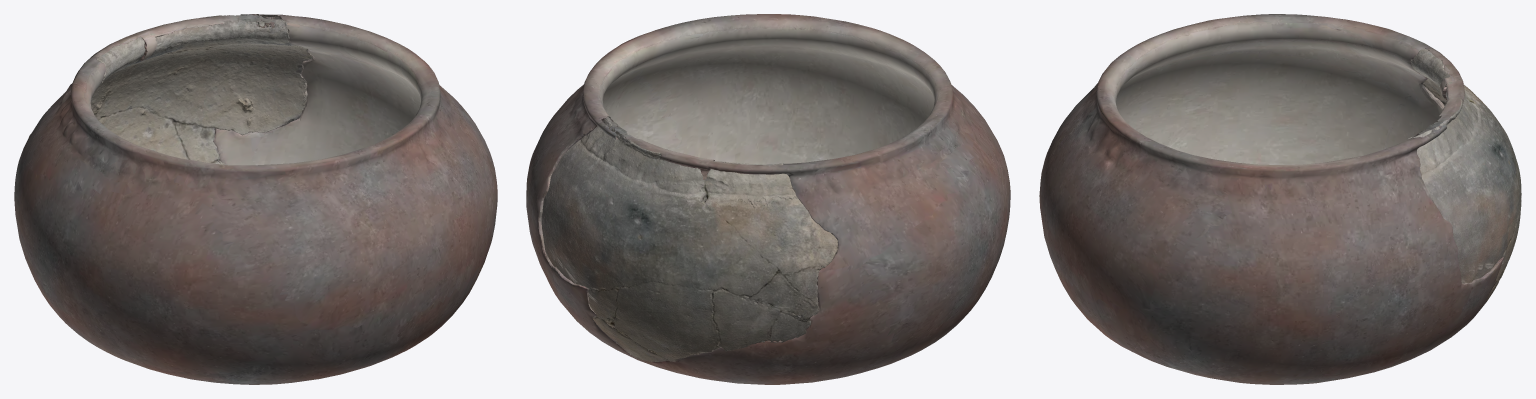
The model's file is vasija-africana.glb.
3 renders of one model, left to right at view 1: azimuth 30°, elevation 25°; view 2: azimuth 150°, elevation 25°; view 3: azimuth 270°, elevation 25°, orthographic.
Parts seen in each view (by area): view 1: reconstruccion, fotogrametria; view 2: reconstruccion, fotogrametria; view 3: reconstruccion, fotogrametria.
Boxes of the visible parts, x1,y1,x2,y2 form: reconstruccion: [14, 14, 497, 384]; fotogrametria: [28, 15, 312, 164]; reconstruccion: [526, 14, 1010, 384]; fotogrametria: [541, 116, 837, 361]; reconstruccion: [1039, 14, 1503, 384]; fotogrametria: [1407, 48, 1521, 303].
Size of the model in its own units: 11.64 by 6.97 by 11.58.
2 materials, 2 textured.
